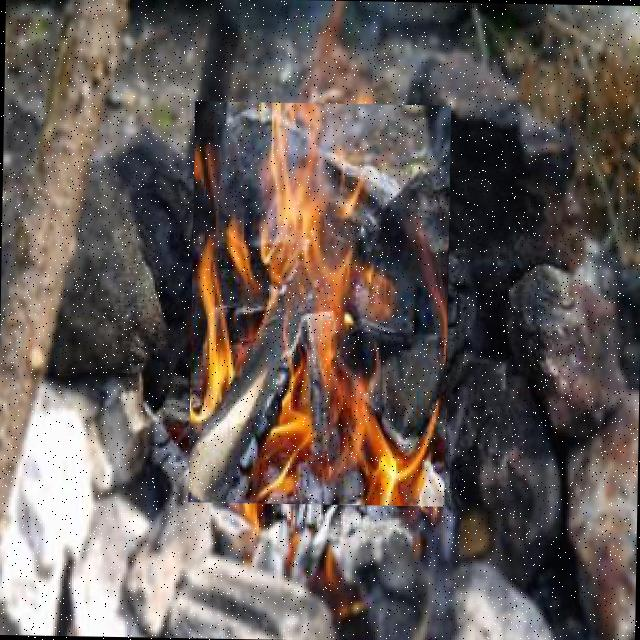fire: (188, 101, 451, 506)
